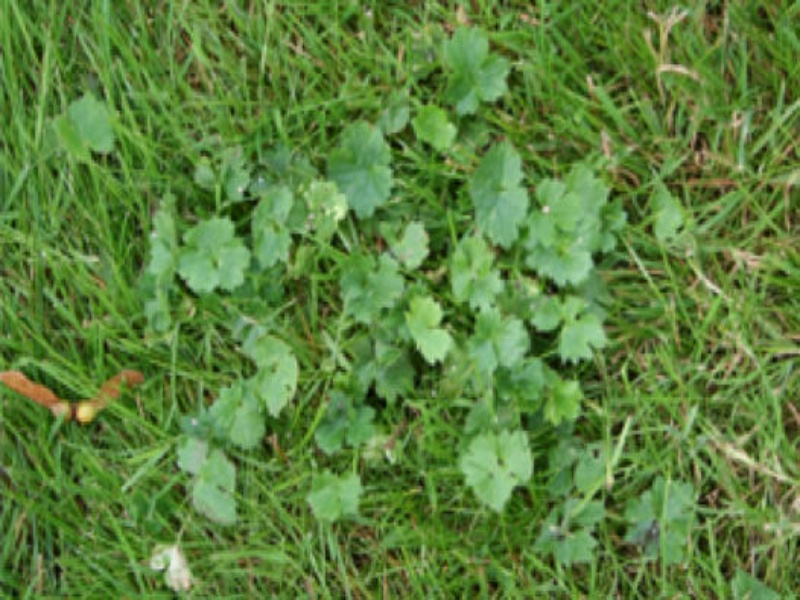weed: (466, 145, 613, 275), (340, 259, 442, 367), (463, 317, 554, 424), (463, 433, 550, 511), (174, 213, 254, 295), (626, 479, 698, 568), (232, 330, 302, 415), (328, 123, 393, 212), (439, 28, 504, 116), (57, 95, 117, 159)
